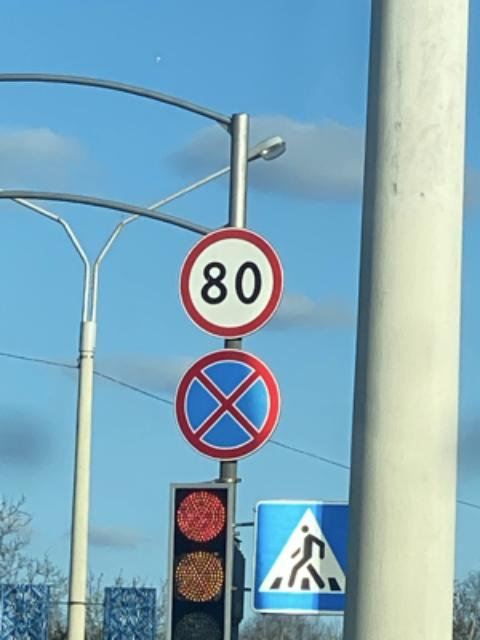crosswalk-sign: (251, 499, 350, 615)
